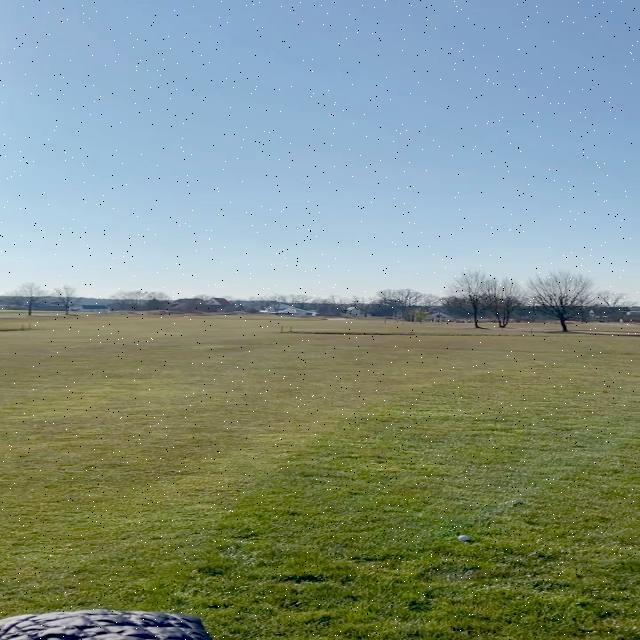GolfBall: (458, 535, 468, 540)
